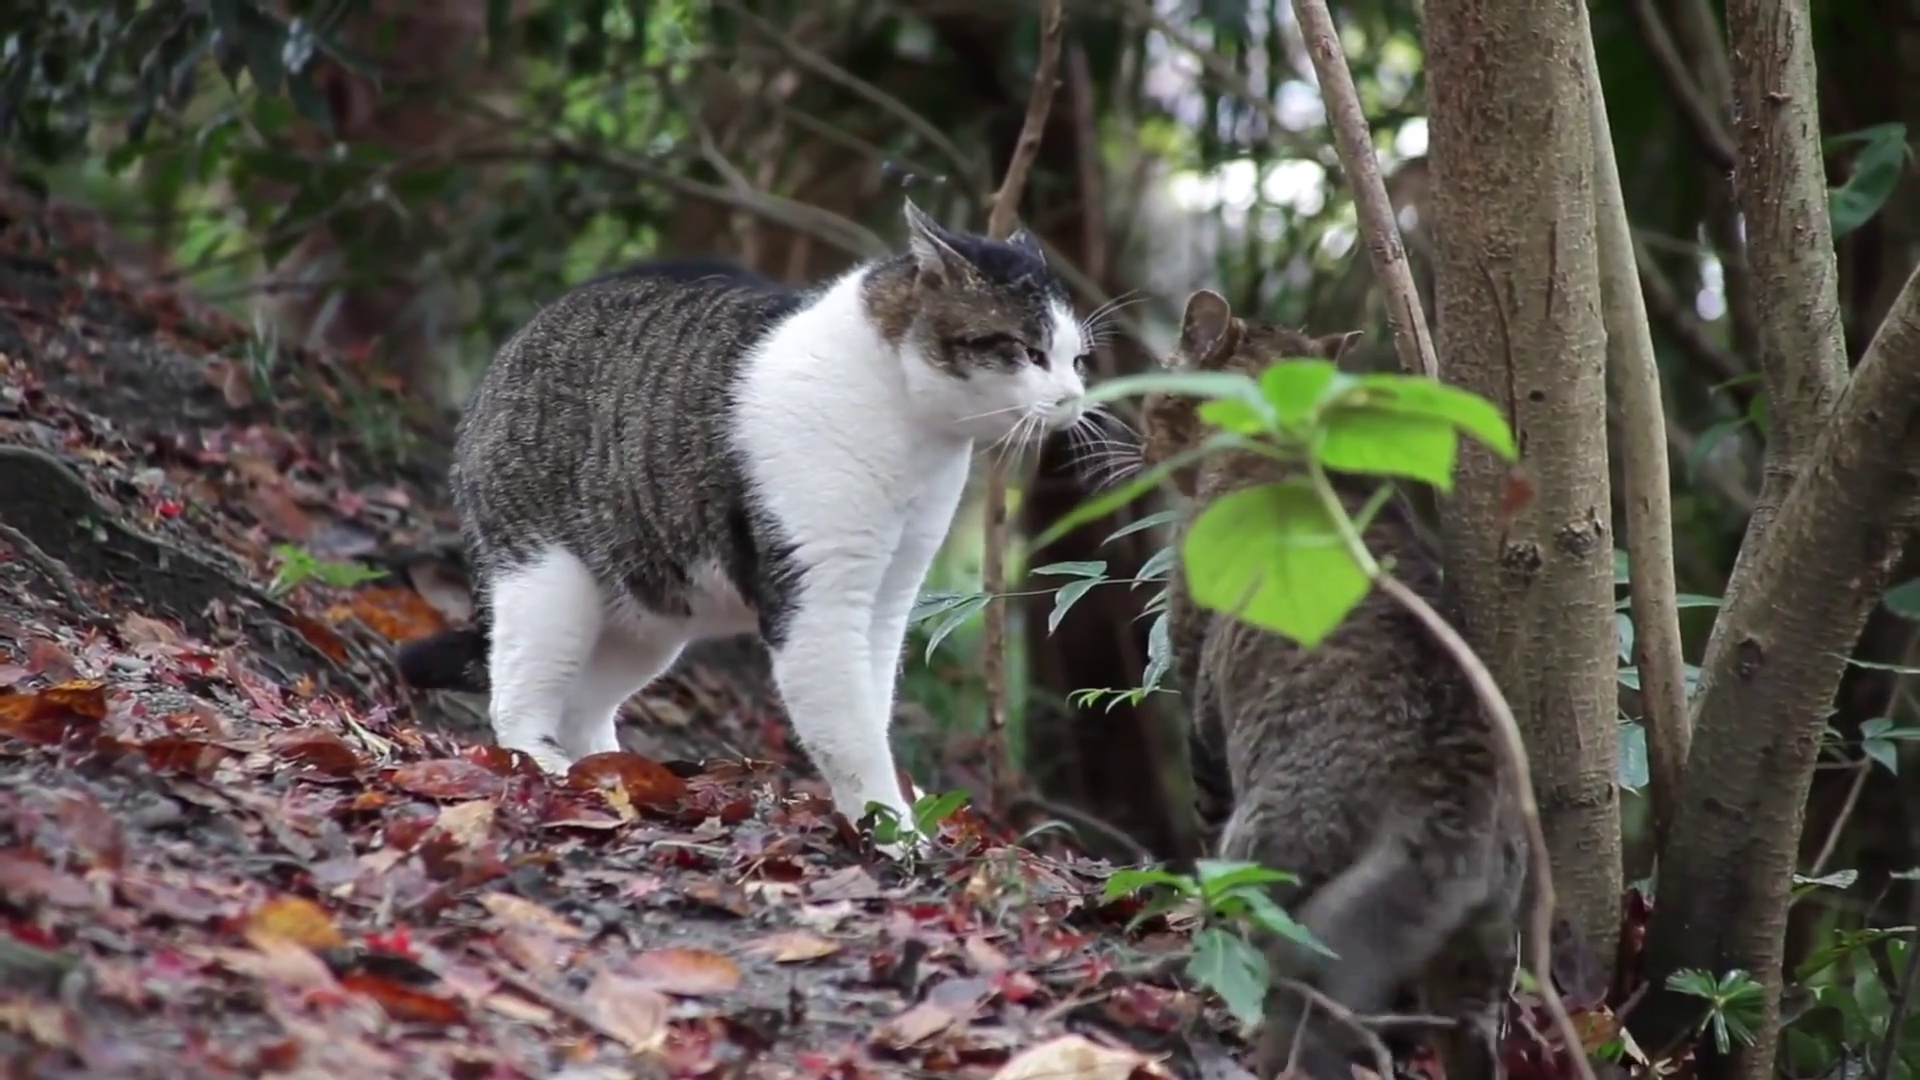black-white: (393, 199, 1088, 862)
pure black: (1135, 287, 1528, 1069)
